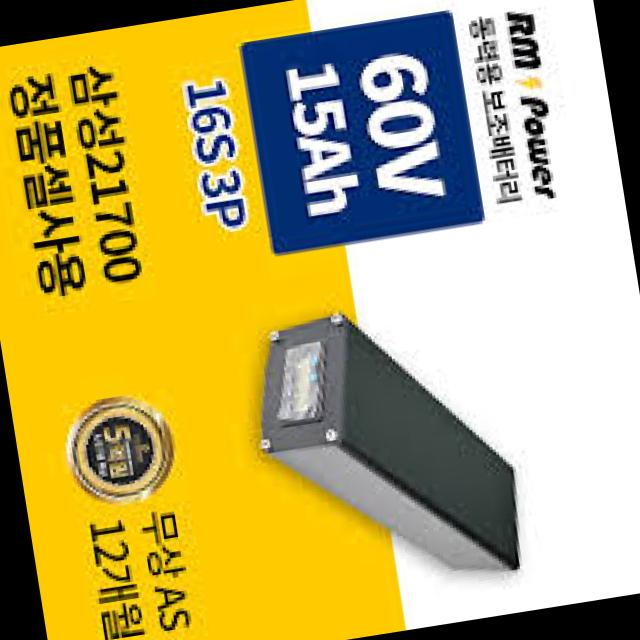power_bank: (233, 290, 534, 609)
